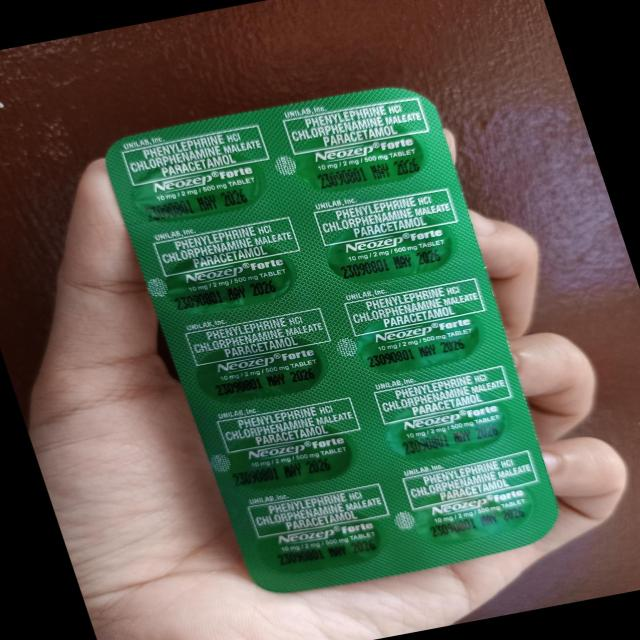Neozep_Strip: (87, 75, 576, 598)
